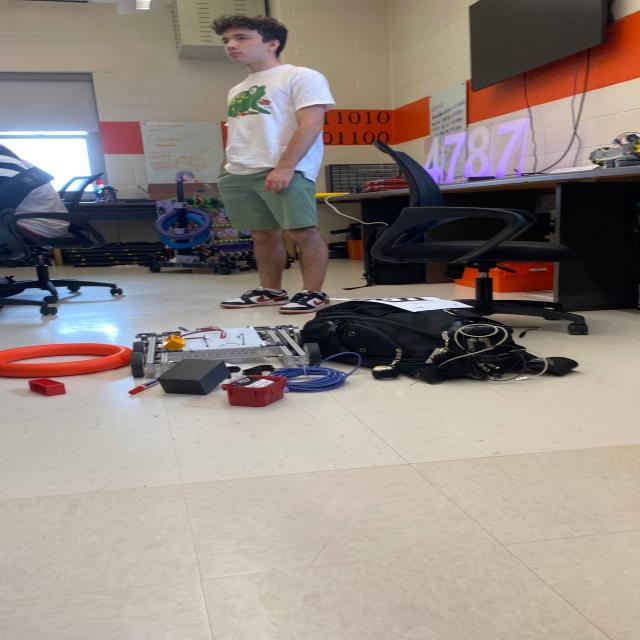red-specimen: (29, 378, 65, 396)
yellow-specimen: (163, 335, 185, 350)
